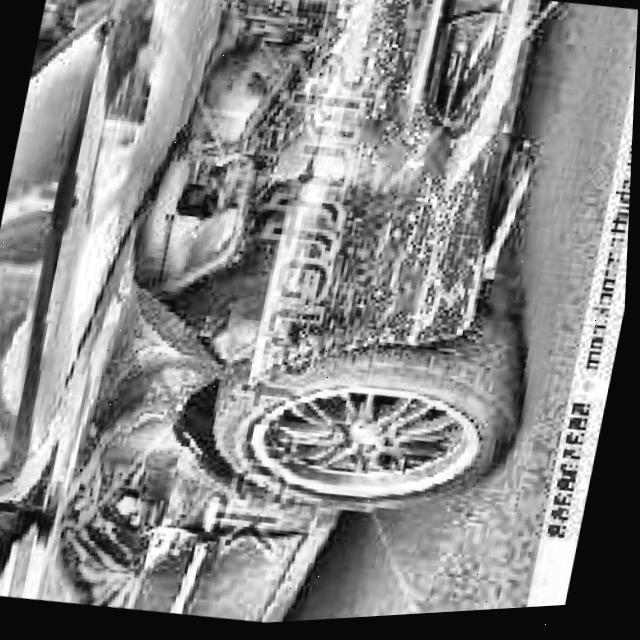bumper_dent: (306, 176, 433, 300), (92, 351, 191, 444)
head_lamp: (139, 0, 332, 354)
